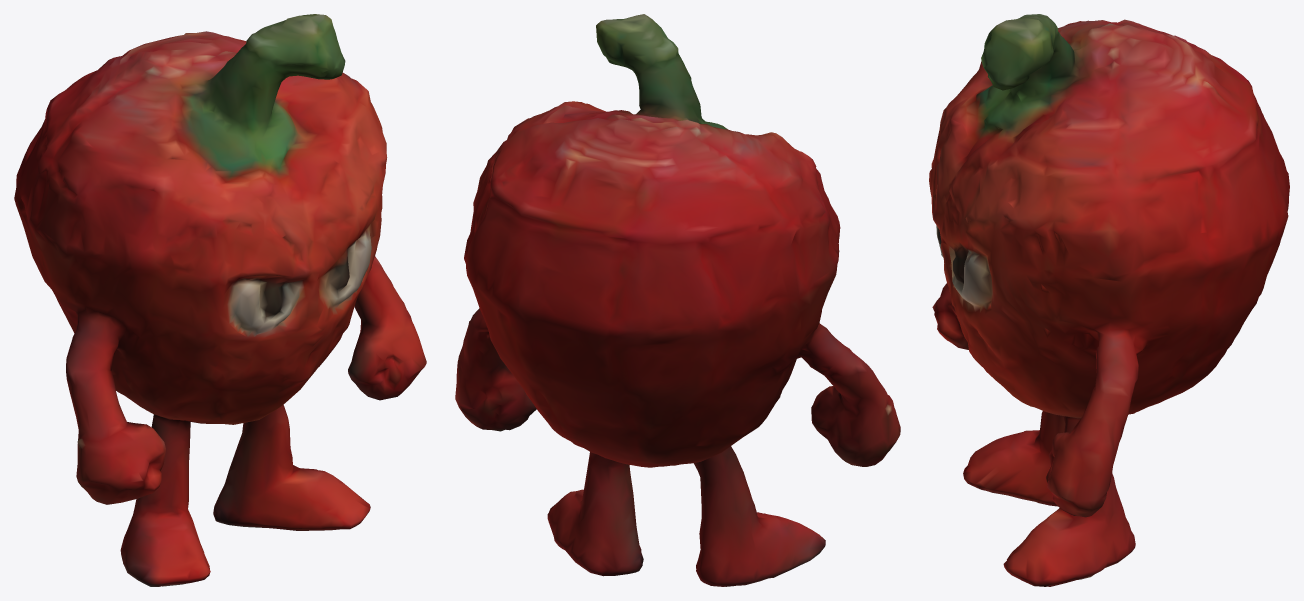
File: pepper.glb
3 views of the same model, side by side, from view 1: azimuth 30°, elevation 25°; view 2: azimuth 150°, elevation 25°; view 3: azimuth 270°, elevation 25° (orthographic). The views are drawn at different scales.
Parts seen in each view (by area): view 1: pepper; view 2: pepper; view 3: pepper.
Boxes of the visible parts, left/top/right/bottom form: pepper: left=14, top=14, right=426, bottom=586; pepper: left=455, top=14, right=900, bottom=586; pepper: left=929, top=14, right=1289, bottom=586.
Bounding box in the file's own units: 0.9449 × 1.2 × 0.7313.
